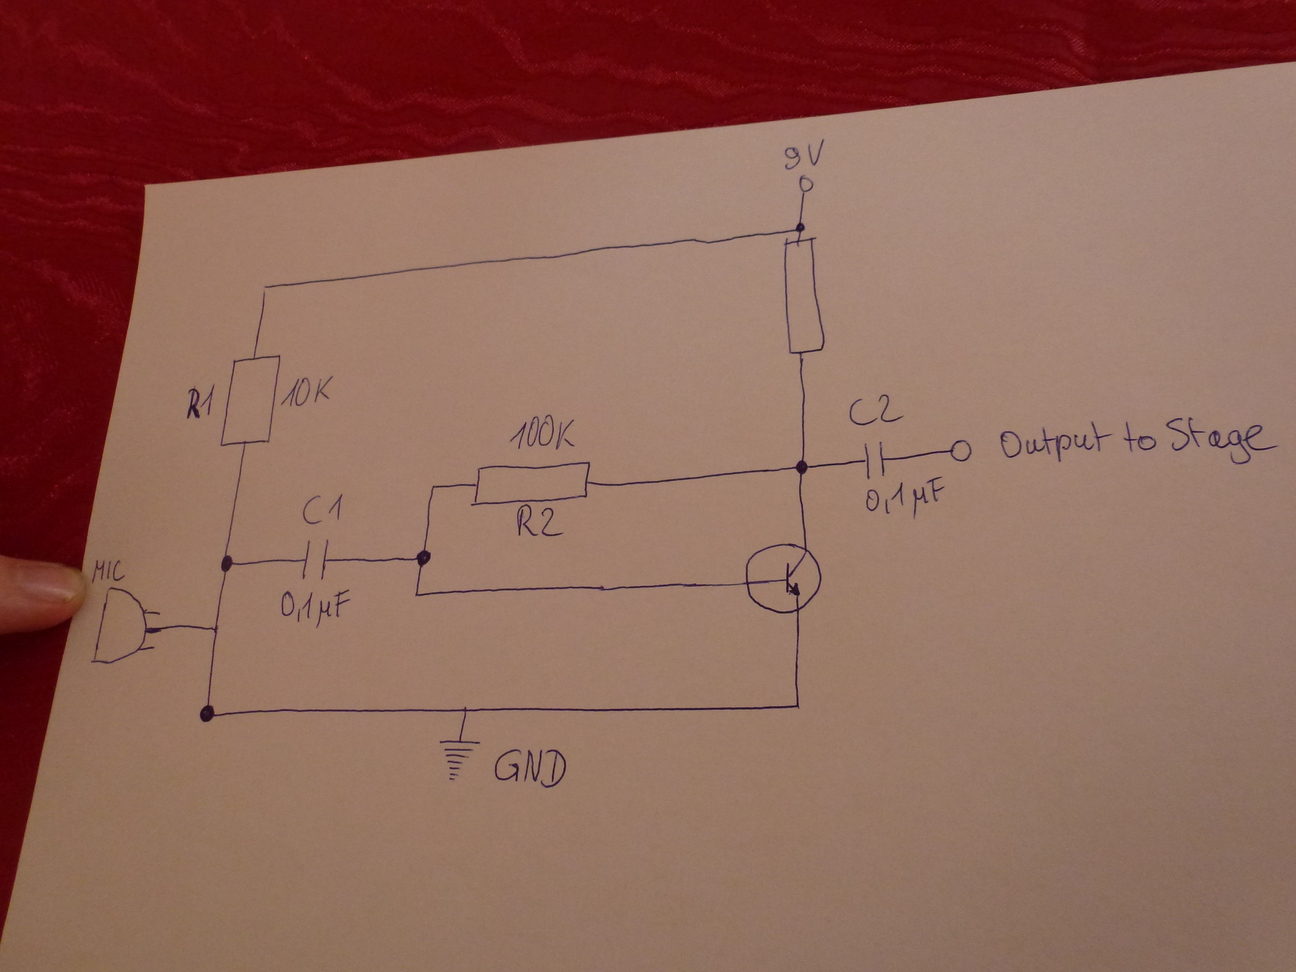capacitor.unpolarized: (294, 535, 334, 586), (856, 439, 895, 483)
gnd: (437, 734, 480, 781)
junction: (790, 454, 812, 477), (197, 702, 218, 724), (218, 552, 239, 575), (414, 546, 432, 570), (456, 702, 473, 720), (792, 217, 808, 236), (787, 697, 804, 714), (427, 479, 440, 493), (410, 587, 423, 601), (259, 282, 272, 294), (209, 621, 220, 635)
microphone: (88, 585, 164, 666)
resistor: (218, 350, 282, 449), (471, 459, 593, 507), (781, 236, 826, 356)
terminal: (944, 434, 974, 466), (796, 175, 817, 195)
text: (996, 411, 1283, 468), (863, 474, 946, 519), (492, 745, 571, 789), (278, 586, 351, 629), (506, 412, 579, 451), (279, 372, 337, 409), (512, 502, 565, 541), (846, 391, 905, 426), (782, 137, 830, 171), (301, 489, 344, 525), (182, 383, 217, 422), (90, 557, 129, 584)
transistor: (740, 542, 830, 614)
